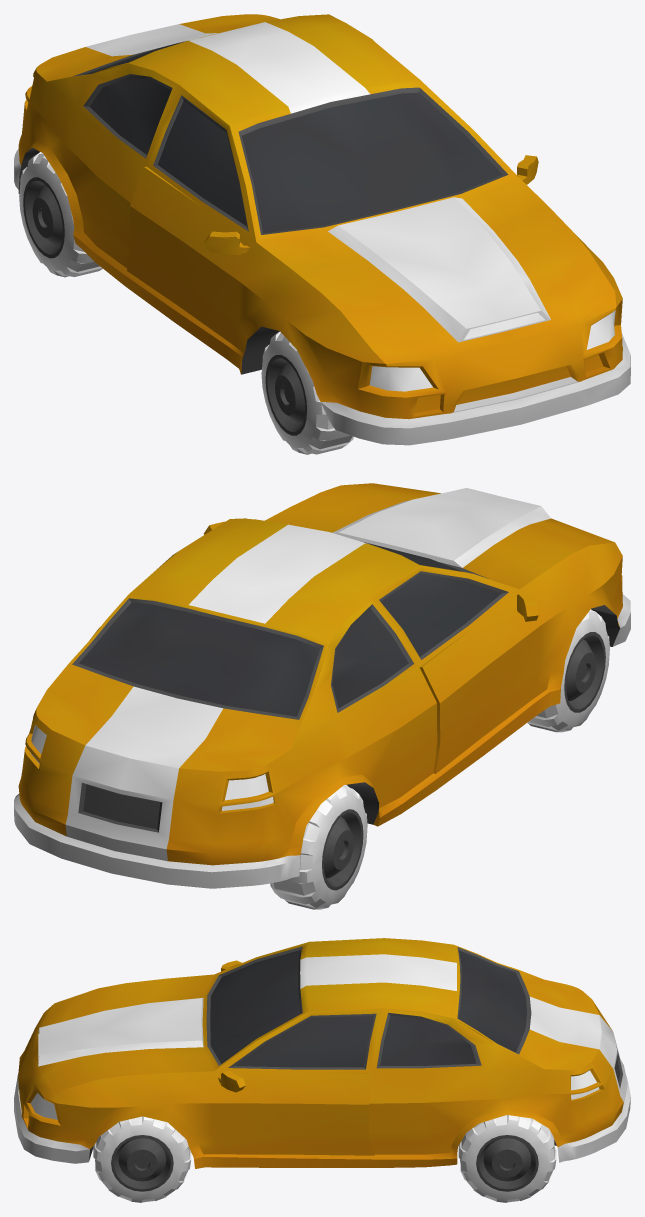
The model's file is Vehicle_Sports.glb.
3 views of the same model, one above another, from view 1: azimuth 30°, elevation 25°; view 2: azimuth 150°, elevation 25°; view 3: azimuth 270°, elevation 25° (orthographic). The views are drawn at different scales.
Visible parts, largest first — view 1: Sports, FrontWheel_R, BackWheels; view 2: Sports, BackWheels, FrontWheel_R; view 3: Sports, BackWheels, FrontWheel_L.
Boxes of the visible parts, <box> form: Sports: <box>14,14,630,445</box>; FrontWheel_R: <box>261,331,353,454</box>; BackWheels: <box>19,152,102,277</box>; Sports: <box>14,483,630,888</box>; BackWheels: <box>270,785,367,909</box>; FrontWheel_R: <box>527,609,609,732</box>; Sports: <box>14,938,630,1168</box>; BackWheels: <box>458,1115,556,1202</box>; FrontWheel_L: <box>93,1116,191,1202</box>.
Size of the model in its own units: 2.67 by 1.86 by 5.66.
